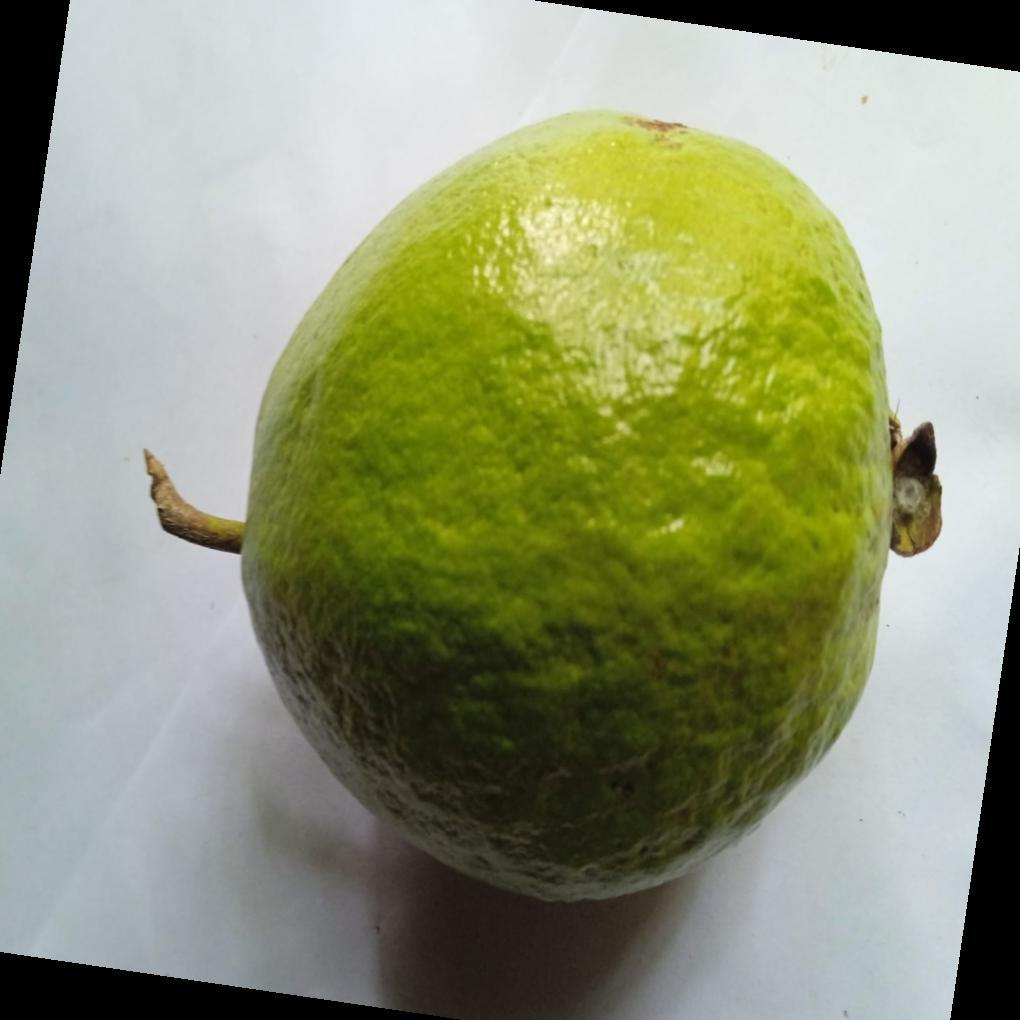FreshGuava: (156, 110, 943, 909)
